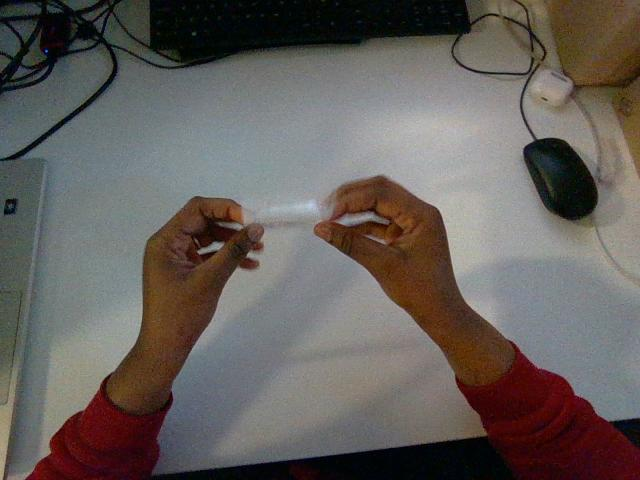gauze: (248, 200, 322, 225)
